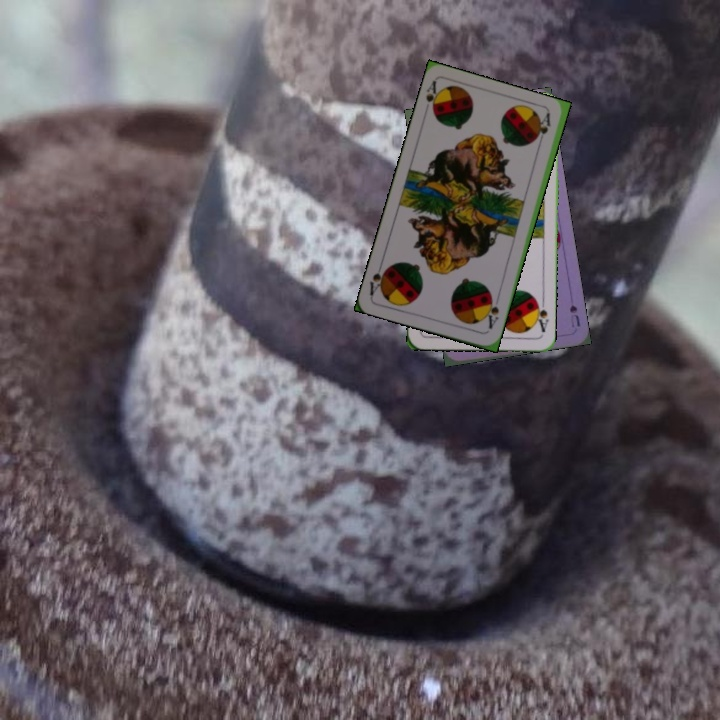SA: (421, 77, 444, 118), (481, 292, 502, 331), (531, 295, 551, 335)
SU: (565, 301, 583, 329)
